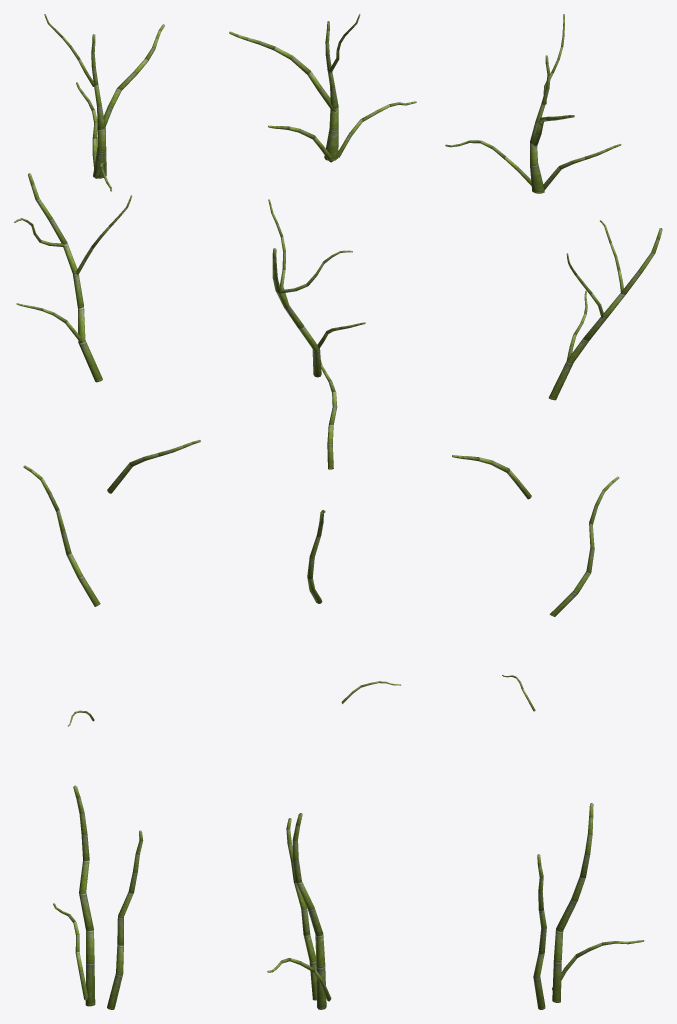
File: BambooSet_part_15.fbx
The picture shows the model from 3 angles, left to right: view 1: azimuth 30°, elevation 25°; view 2: azimuth 150°, elevation 25°; view 3: azimuth 270°, elevation 25°; orthographic projection. The views are drawn at different scales.
Visible parts, largest first — view 1: Object_36.001; view 2: Object_36.001; view 3: Object_36.001.
Boxes of the visible parts, x1=… form: Object_36.001: x1=14, y1=14, x2=200, y2=1009; Object_36.001: x1=229, y1=14, x2=416, y2=1009; Object_36.001: x1=445, y1=14, x2=662, y2=1009.
Bounding box in the file's own units: 490 × 3310 × 673.
